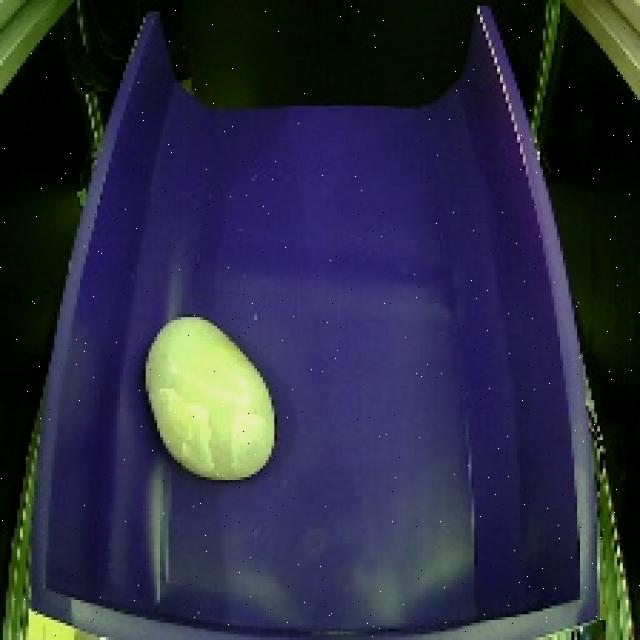cobbles: (139, 313, 282, 489)
